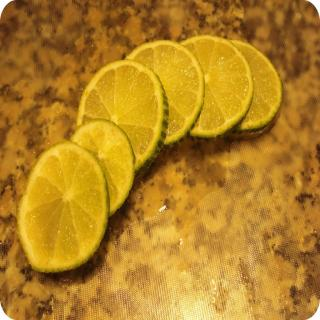Lemon: (15, 37, 284, 272), (18, 143, 109, 274)
